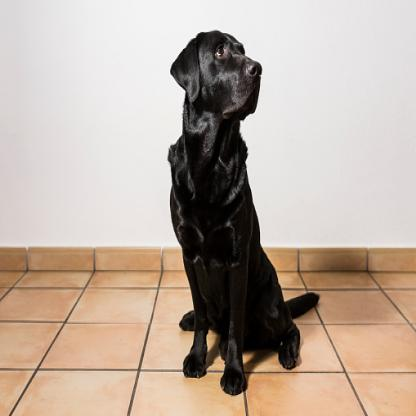Labarador Retriever: (167, 29, 320, 388)
